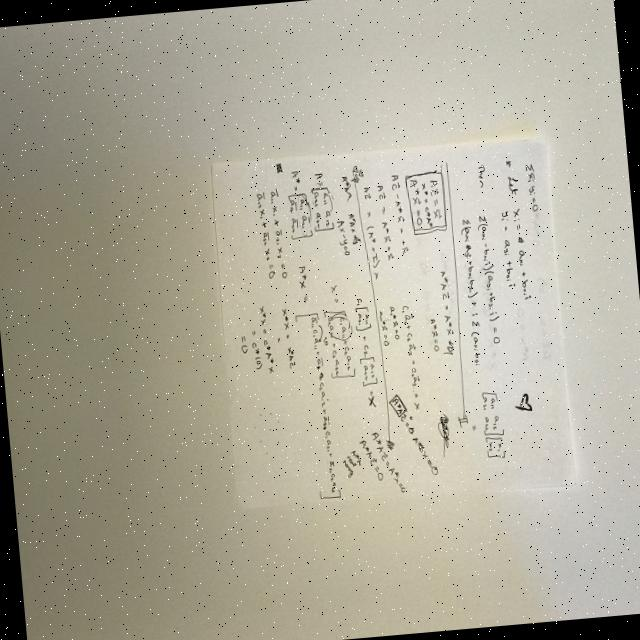paper: (207, 132, 577, 514)
